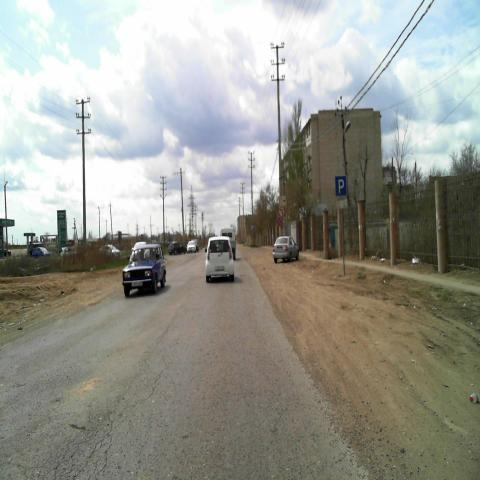6_4: (335, 175, 347, 196)
